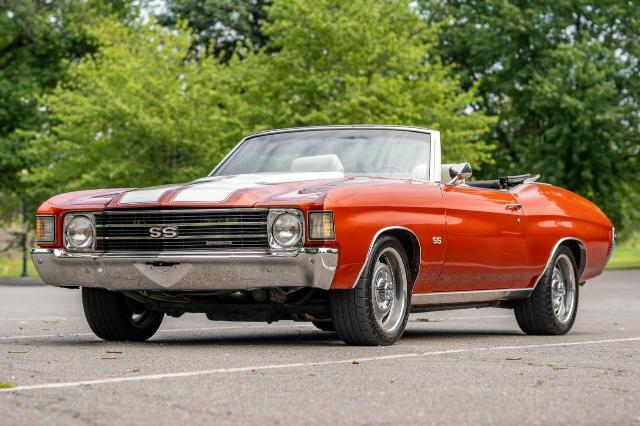chevelle-1972: (31, 125, 615, 345)
